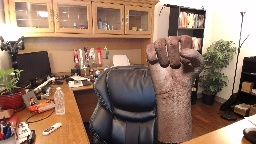Pugno: (144, 34, 206, 95)
